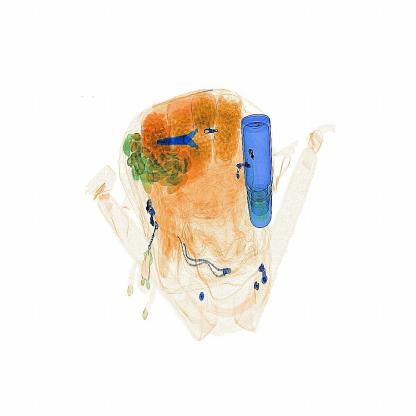gun: (146, 110, 212, 164)
